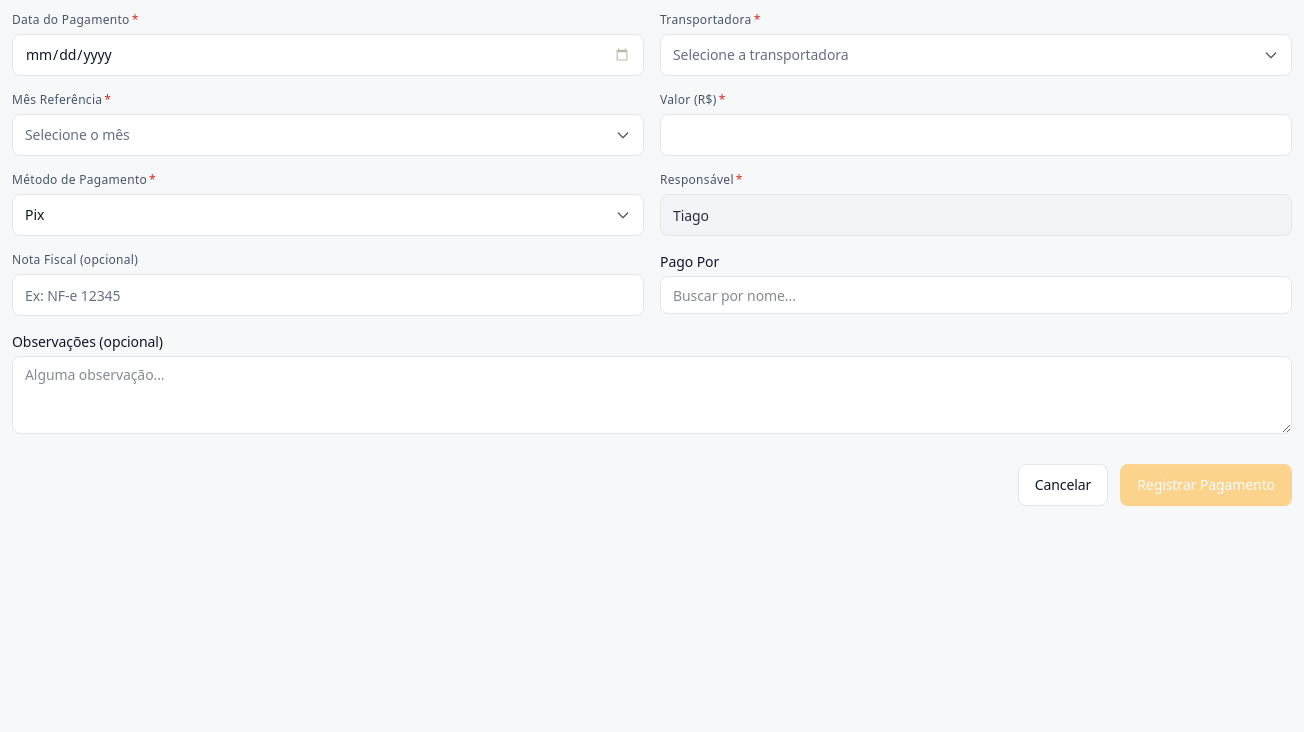
Scenario: PagamentoFreteForm — dropdowns controlados › reflete o método de pagamento selecionado
Click the button named "método de pagamento". click: (35, 214)
box: [12,194,644,236]
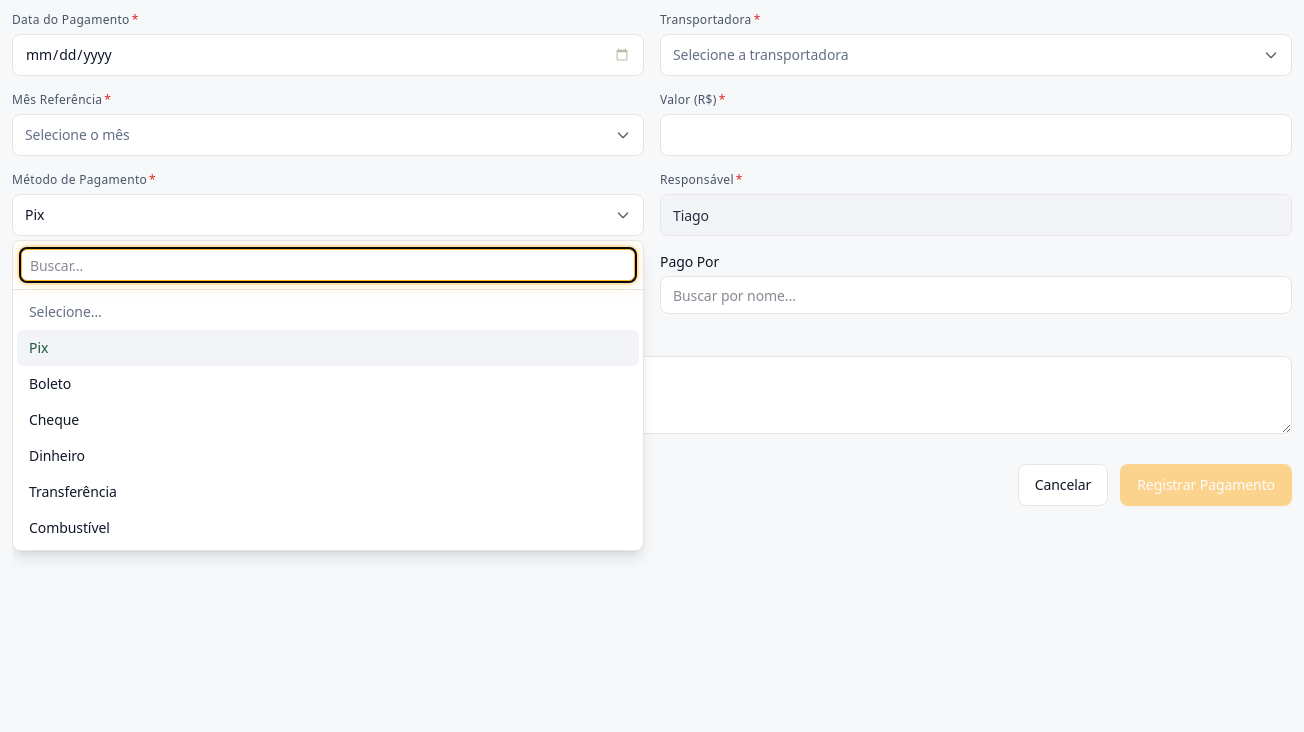
Click the option "Boleto". click: (50, 384)
box: [29,374,71,393]
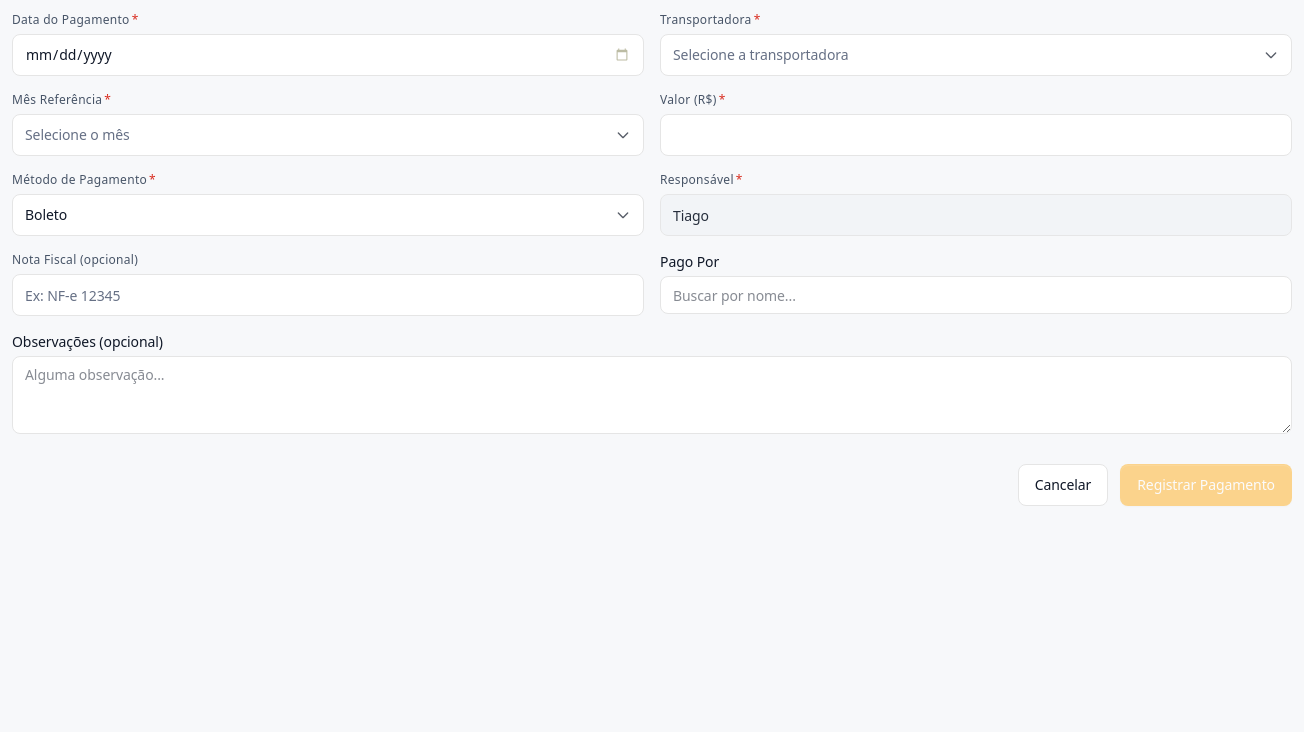
Now the button named "método de pagamento" reads "Boleto", box [12,194,644,236]
